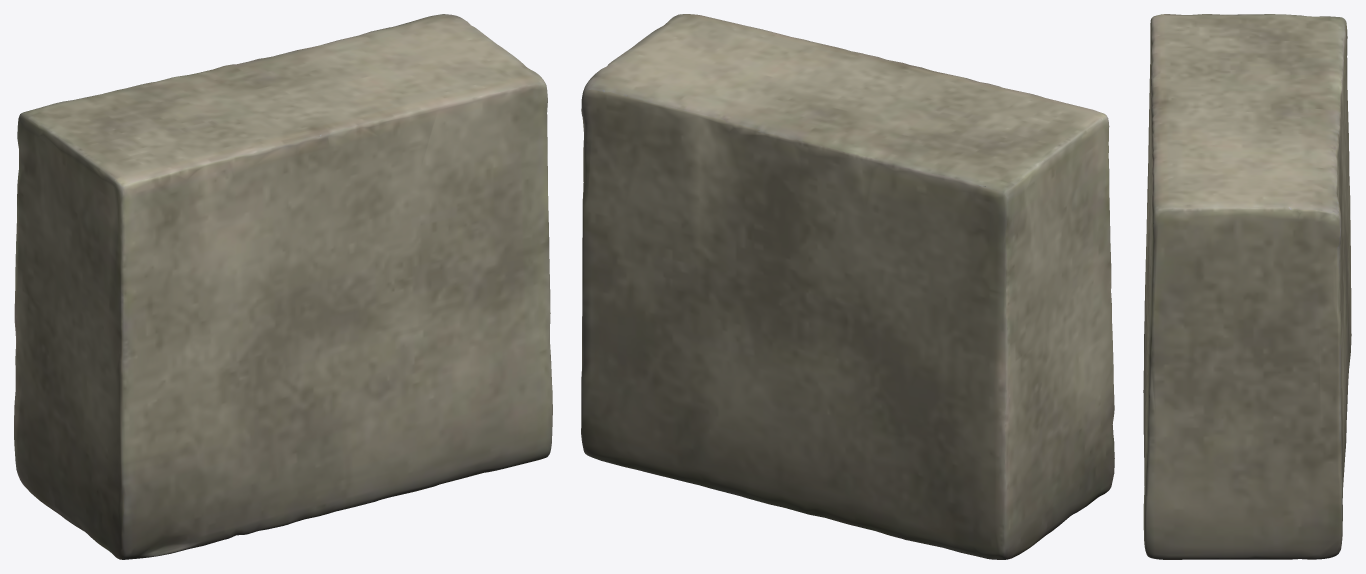
File: plain-limestone-balcony-v001.glb
3 views of the same model, side by side, from view 1: azimuth 30°, elevation 25°; view 2: azimuth 150°, elevation 25°; view 3: azimuth 270°, elevation 25° (orthographic). The views are drawn at different scales.
Parts seen in each view (by area): view 1: plain-limestone-balcony; view 2: plain-limestone-balcony; view 3: plain-limestone-balcony.
Part boxes in pixels (left/top/right/bottom): plain-limestone-balcony: left=14, top=14, right=552, bottom=559; plain-limestone-balcony: left=581, top=14, right=1114, bottom=559; plain-limestone-balcony: left=1143, top=14, right=1351, bottom=559.
Bounding box in the file's own units: 1.18 × 0.9997 × 0.5275.
1 material, 1 textured.
